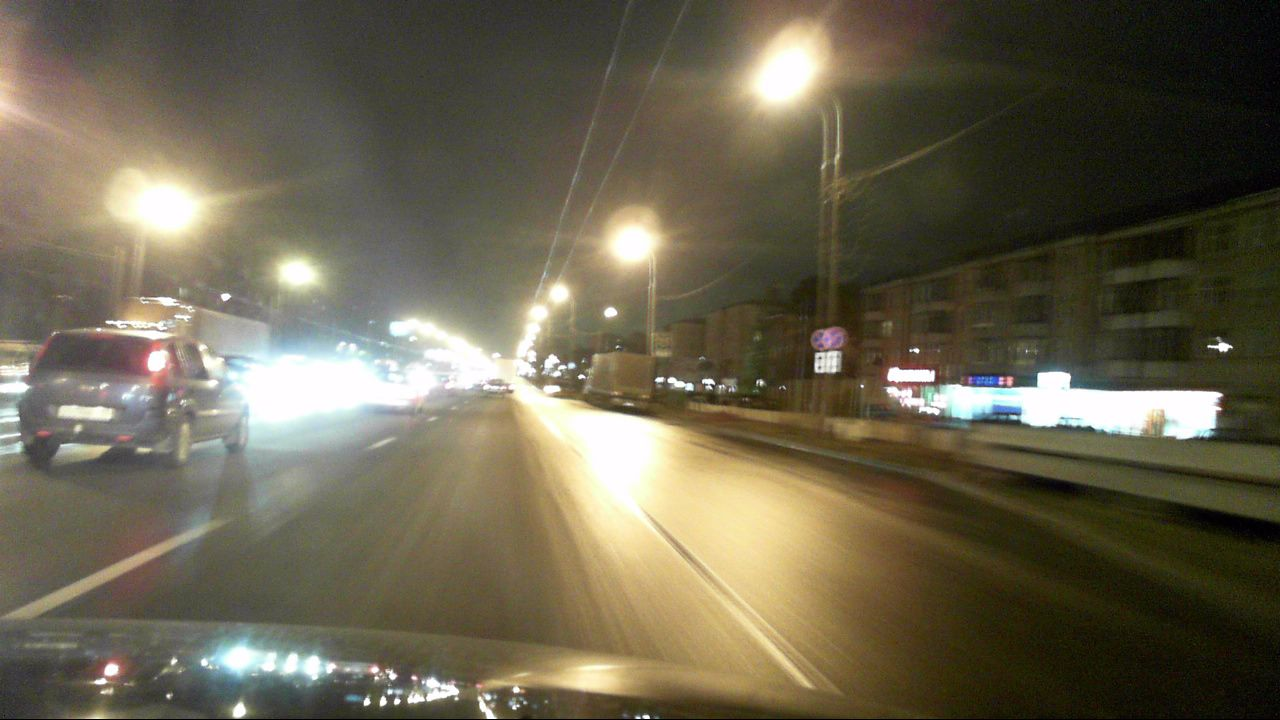No Parking: (810, 327, 832, 350)
